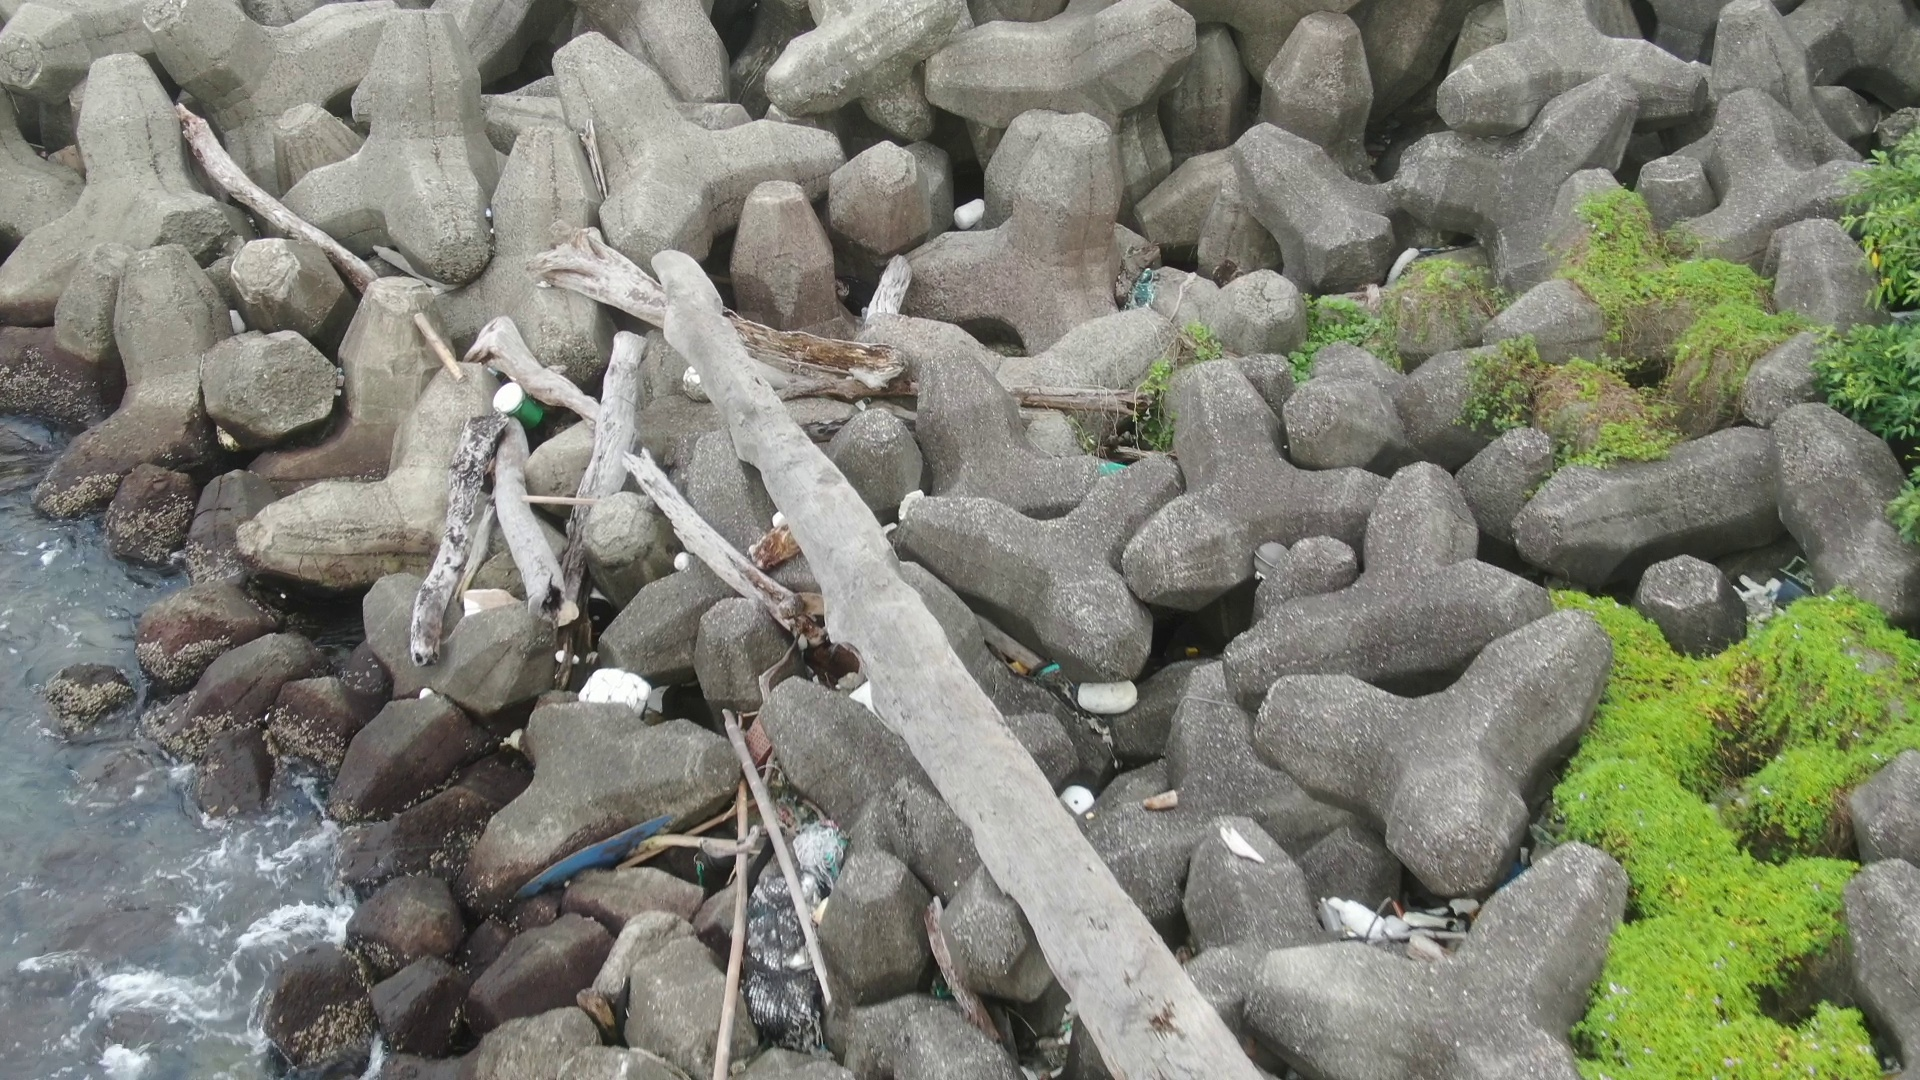garbage: (732, 804, 861, 1062), (1317, 860, 1489, 982), (518, 808, 691, 910), (1737, 547, 1834, 626), (578, 663, 659, 723), (484, 372, 553, 442), (1064, 676, 1146, 715), (1251, 535, 1296, 585), (949, 195, 989, 225)
